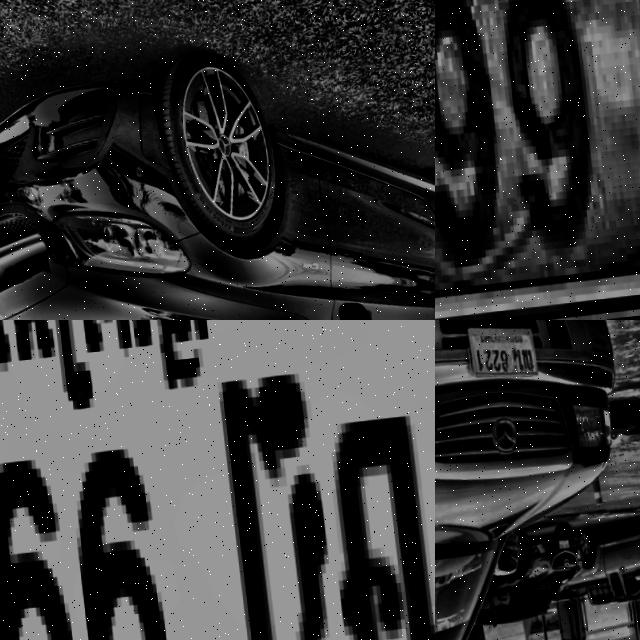license-plate: (0, 320, 435, 640), (435, 0, 640, 320), (463, 321, 539, 388)
